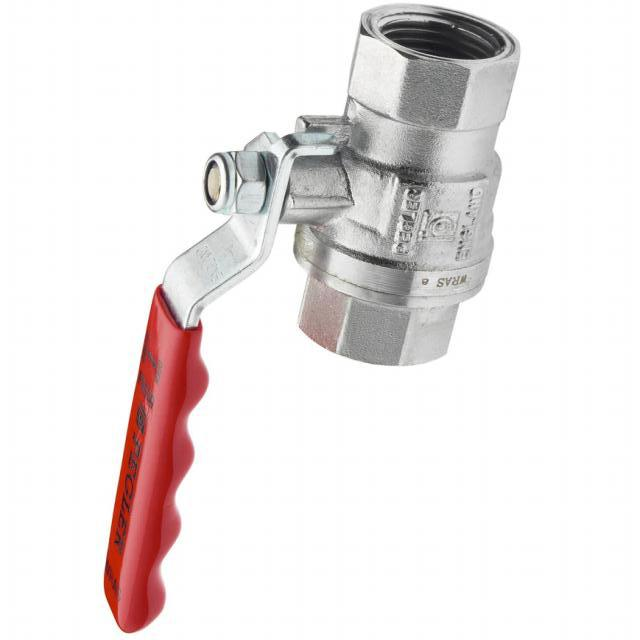opened valve: (95, 0, 526, 640)
